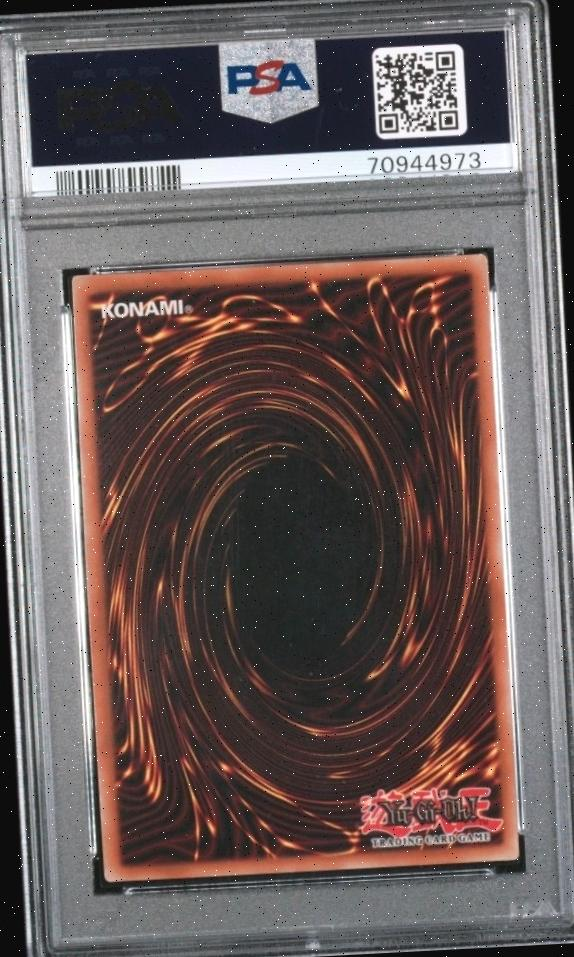card-2UtV: (69, 252, 520, 883)
